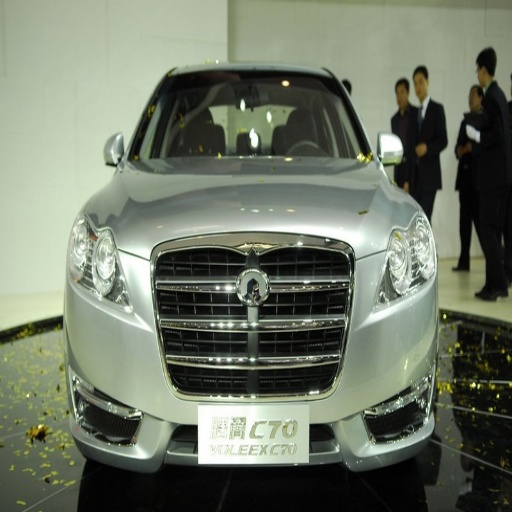front_bumper: (66, 235, 438, 472)
front_right_light: (69, 210, 139, 315)
hood: (95, 157, 410, 260)
